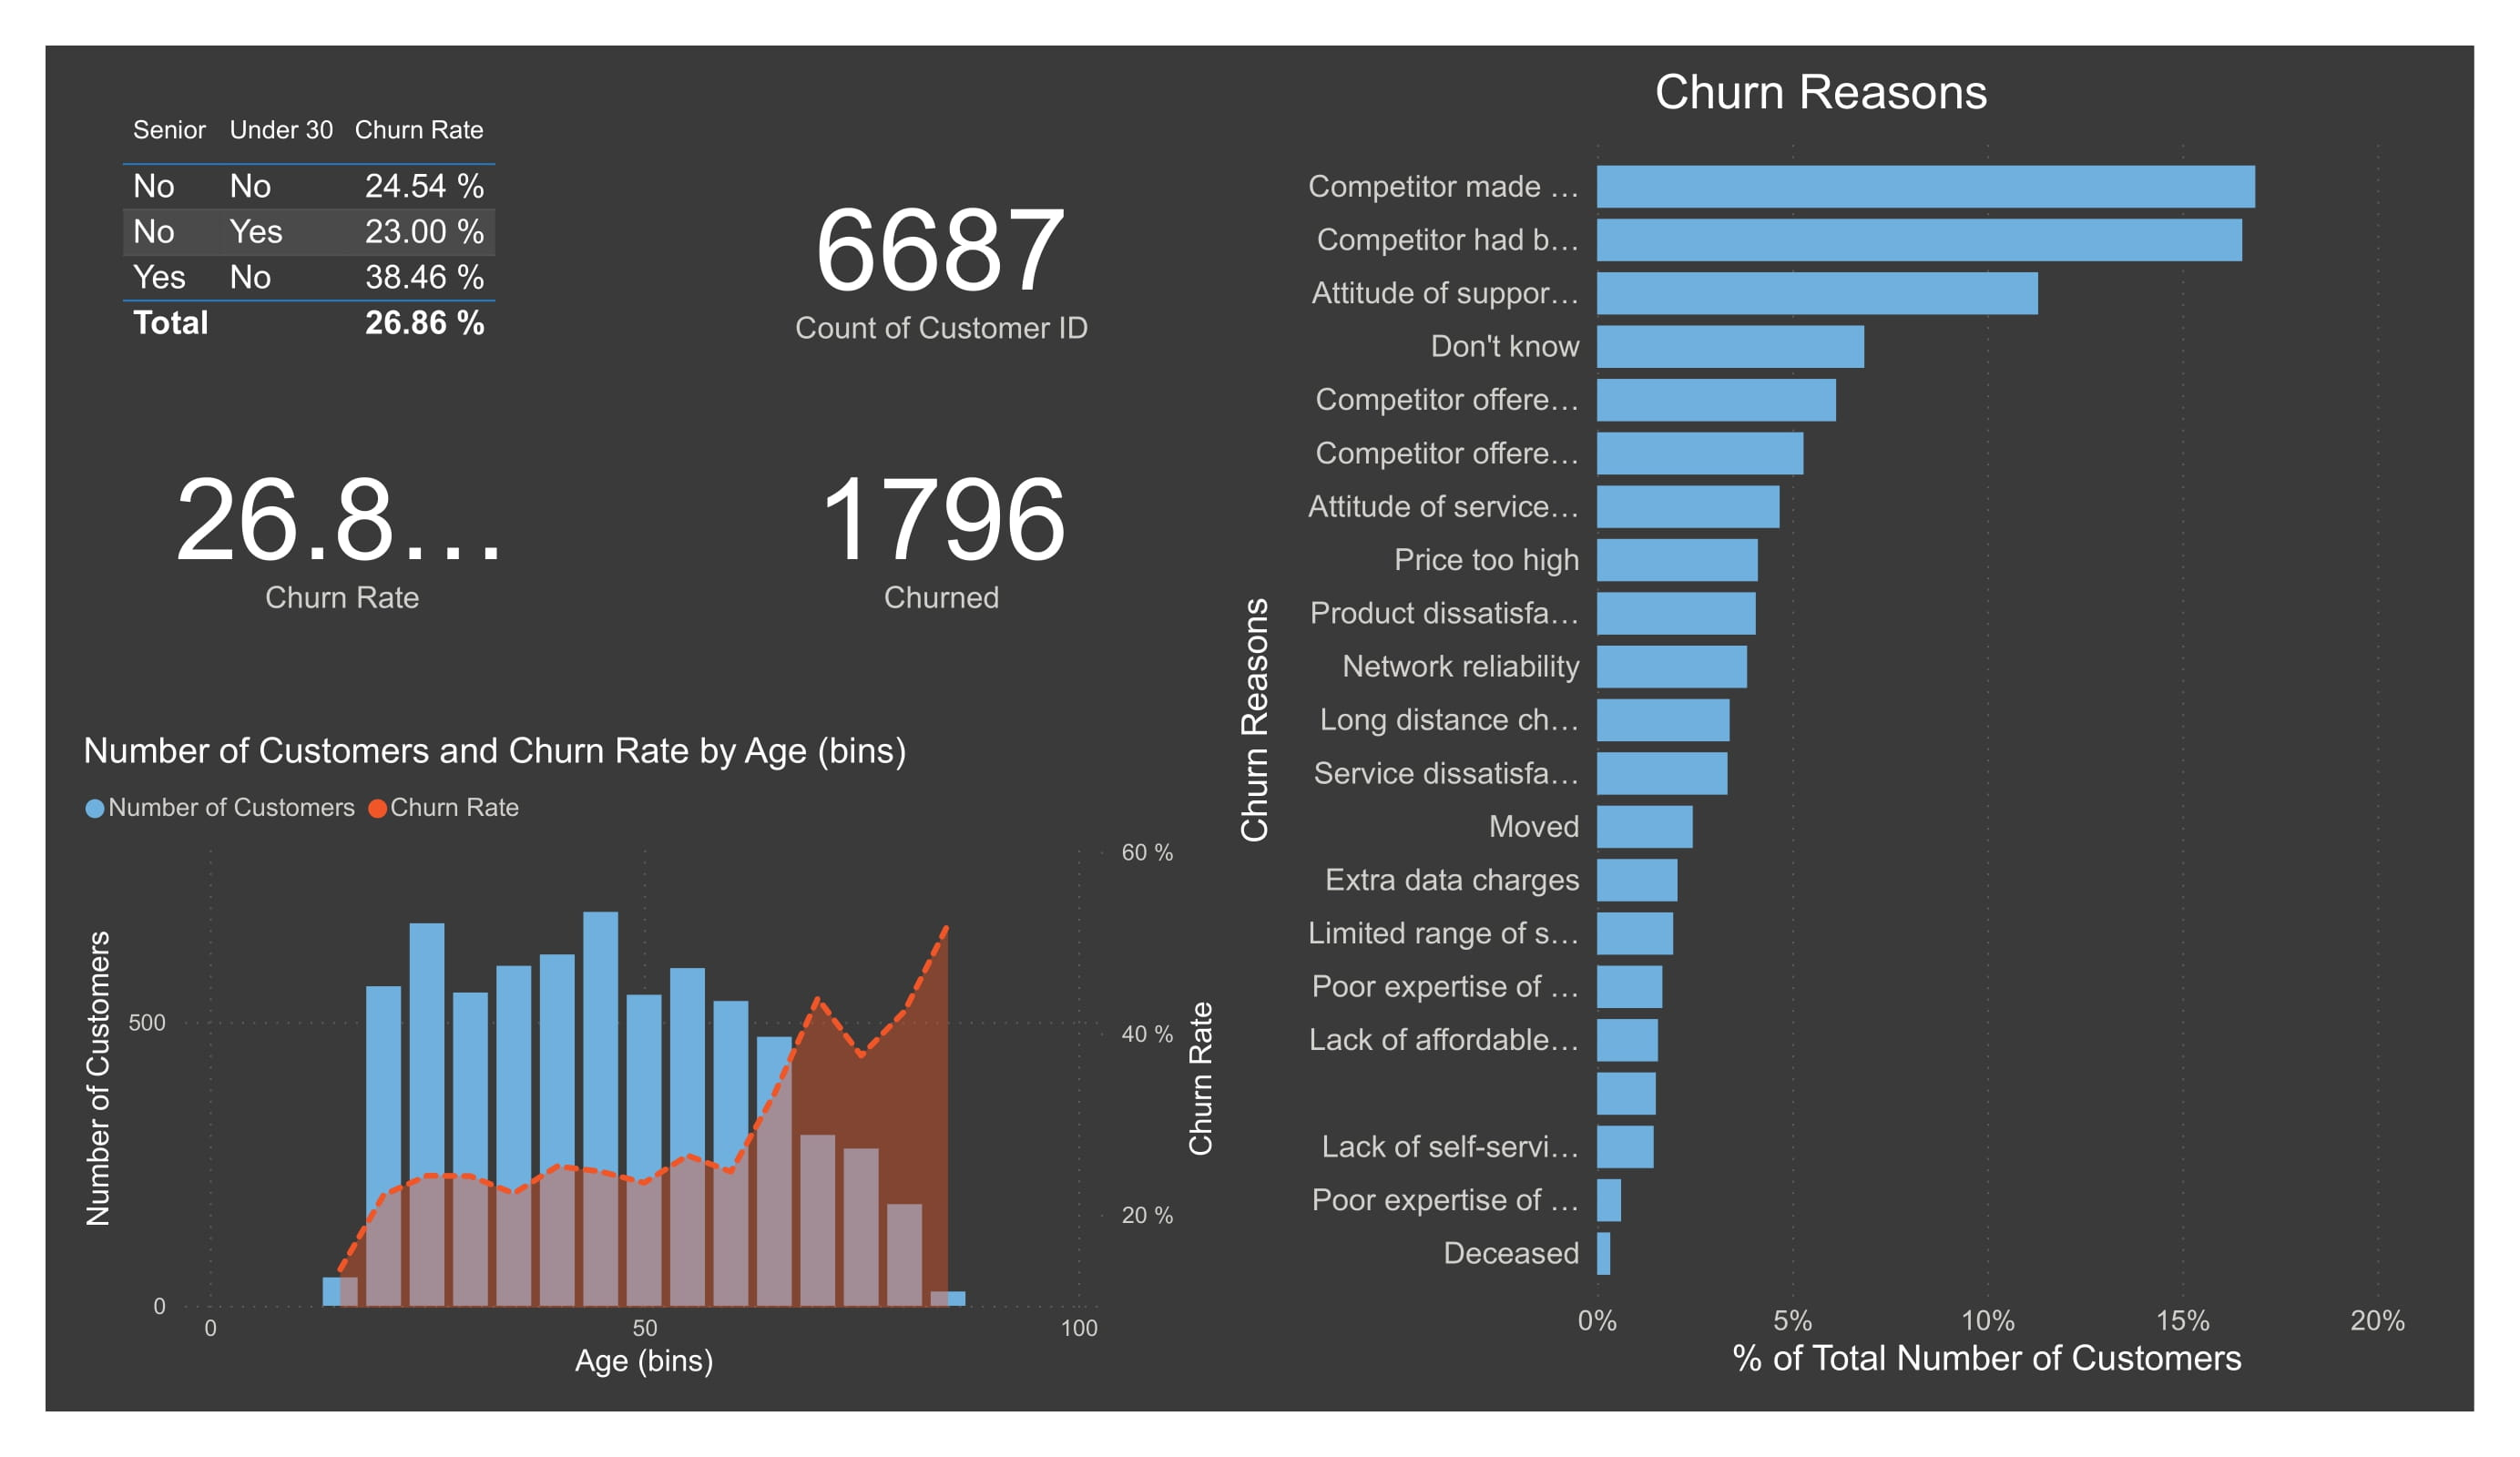

The dashboard page shown, as its layout file describes it:
{"tool":"powerbi","page":{"name":"Churn Demographics","canvas":[1280,720],"ordinal":0},"visuals":[{"type":"tableEx","fields":{"Values":["Databel - Data.Senior","Databel - Data.Under 30","Databel - Data.Churn Rate"]},"box":[35.2,30.8,280.1,161.3],"z":0},{"type":"clusteredBarChart","title":"Churn Reasons","fields":{"Category":["Databel - Data.Churn Reason"],"Y":["CountNonNull(Databel - Data.Number of Customers in Group)"]},"box":[623.2,10.3,626.2,696.5],"z":1000},{"type":"card","fields":{"Values":["Databel - Data.Churn Rate"]},"box":[51.3,192.1,211.2,123.2],"z":2000},{"type":"lineStackedColumnComboChart","fields":{"Category":["Databel - Data.Age (bins)"],"Y":["Databel - Data.Number of costumers"],"Y2":["Databel - Data.Churn Rate"]},"box":[14.7,360.7,608.6,346.1],"z":3000},{"type":"card","fields":{"Values":["Count(Databel - Data.Customer ID)"]},"box":[366.6,49.9,211.2,123.2],"z":4000},{"type":"card","fields":{"Values":["Sum(Databel - Data.Churned)"]},"box":[366.6,192.1,211.2,123.2],"z":5000}]}

Visuals, with their boxes in screenshot pixels (x1, y1, x2, y2):
tableEx - Databel - Data.Senior x Databel - Data.Under 30: x1=112, y1=104, x2=644, y2=410
"Churn Reasons" clusteredBarChart: x1=1228, y1=65, x2=2416, y2=1386
card - Databel - Data.Churn Rate: x1=143, y1=410, x2=544, y2=644
lineStackedColumnComboChart - Databel - Data.Age (bins) x Databel - Data.Number of costumers: x1=74, y1=729, x2=1229, y2=1386
card - Count(Databel - Data.Customer ID): x1=741, y1=140, x2=1142, y2=374
card - Sum(Databel - Data.Churned): x1=741, y1=410, x2=1142, y2=644
